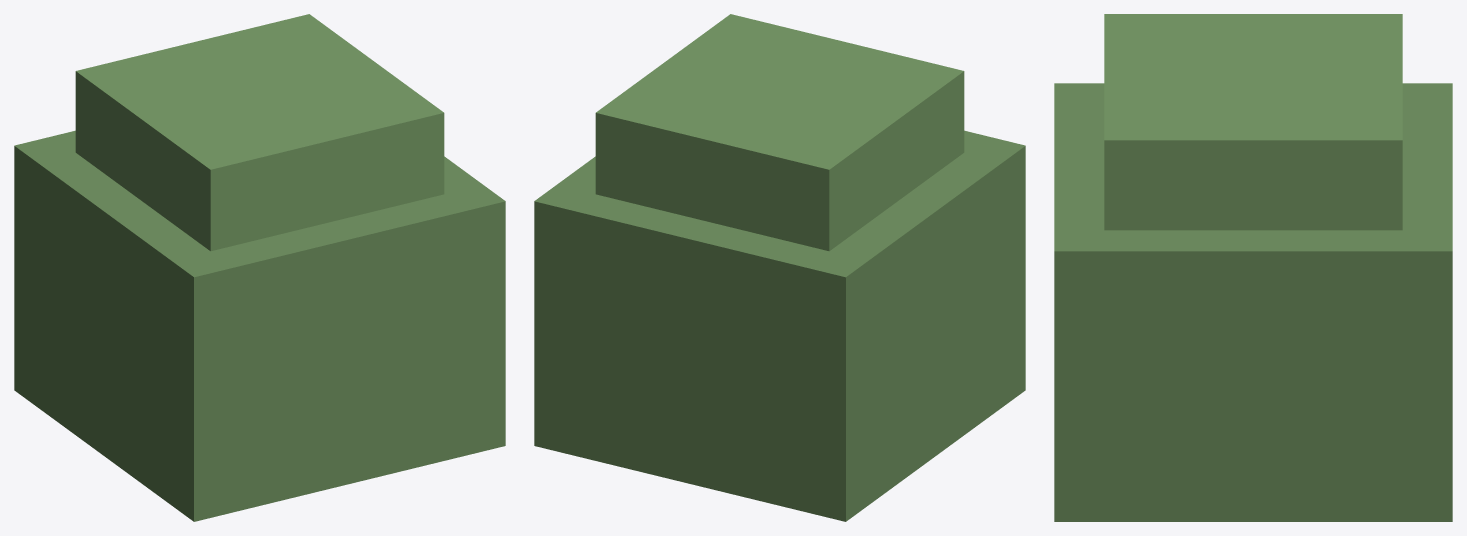
The model's file is arbusto_comun_02.glb.
3 views of the same model, side by side, from view 1: azimuth 30°, elevation 25°; view 2: azimuth 150°, elevation 25°; view 3: azimuth 270°, elevation 25° (orthographic). The views are drawn at different scales.
Visible parts, largest first — view 1: arbusto_comun_02; view 2: arbusto_comun_02; view 3: arbusto_comun_02.
Boxes of the visible parts, box(x1,y1,x2,y2) form: arbusto_comun_02: box(14, 14, 505, 521); arbusto_comun_02: box(534, 14, 1025, 521); arbusto_comun_02: box(1054, 14, 1452, 521).
Bounding box in the file's own units: 0.8 × 0.8 × 0.8.
